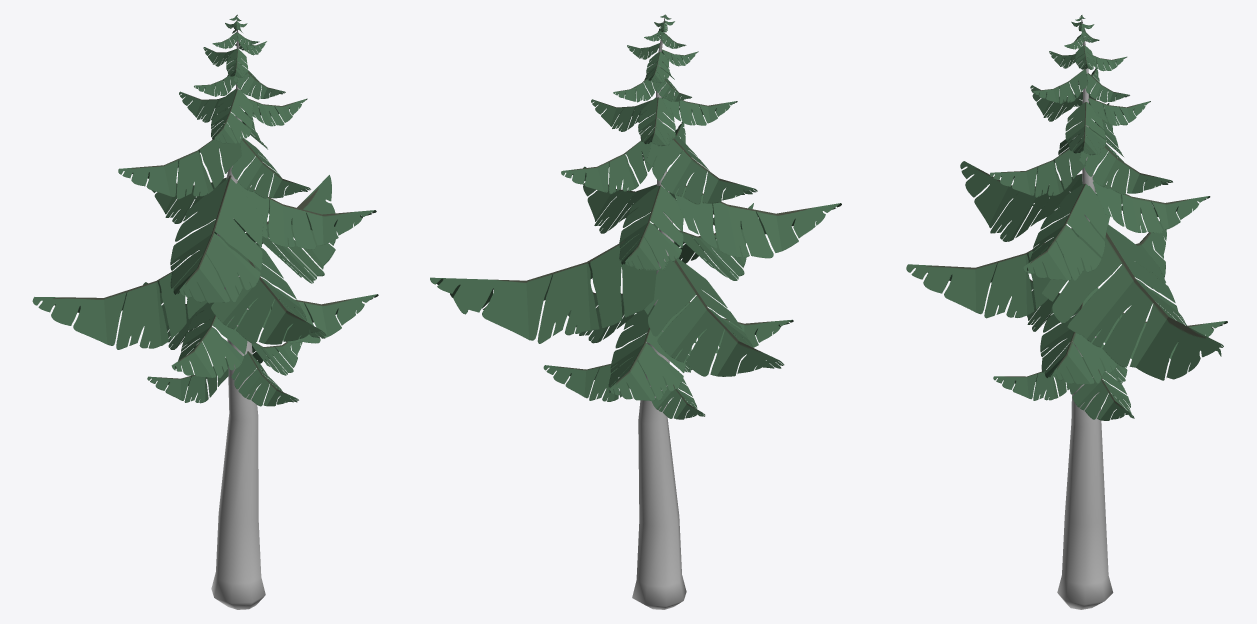
File: EverblueTree.fbx
3 renders of one model, left to right at view 1: azimuth 30°, elevation 25°; view 2: azimuth 150°, elevation 25°; view 3: azimuth 270°, elevation 25°, orthographic.
Parts seen in each view (by area): view 1: Tall_Tree_LOD0, Tall_Branches_LOD0.025, Tall_Branches_LOD0.024, Tall_Branches_LOD0.003, Tall_Branches_LOD0.006, Tall_Branches_LOD0.005, Tall_Branches_LOD0.022, Tall_Branches_LOD0.023, Tall_Branches_LOD0.008, Tall_Branches_LOD0.021, Tall_Branches_LOD0.026, Tall_Branches_LOD0.001 (+7 smaller); view 2: Tall_Branches_LOD0.023, Tall_Branches_LOD0.024, Tall_Tree_LOD0, Tall_Branches_LOD0.025, Tall_Branches_LOD0.002, Tall_Branches_LOD0.004, Tall_Branches_LOD0.006, Tall_Branches_LOD0.007, Tall_Branches_LOD0, Tall_Branches_LOD0.005, Tall_Branches_LOD0.003, Tall_Branches_LOD0.009 (+6 smaller); view 3: Tall_Branches_LOD0.023, Tall_Tree_LOD0, Tall_Branches_LOD0.003, Tall_Branches_LOD0.005, Tall_Branches_LOD0.025, Tall_Branches_LOD0.021, Tall_Branches_LOD0.004, Tall_Branches_LOD0.008, Tall_Branches_LOD0.007, Tall_Branches_LOD0, Tall_Branches_LOD0.010, Tall_Branches_LOD0.001 (+7 smaller).
Part boxes in pixels (left/top/right/bottom): Tall_Tree_LOD0: left=211, top=15, right=265, bottom=609; Tall_Branches_LOD0.025: left=170, top=175, right=263, bottom=302; Tall_Branches_LOD0.024: left=32, top=253, right=207, bottom=349; Tall_Branches_LOD0.003: left=207, top=236, right=326, bottom=344; Tall_Branches_LOD0.006: left=118, top=127, right=241, bottom=199; Tall_Branches_LOD0.005: left=236, top=182, right=376, bottom=249; Tall_Branches_LOD0.022: left=171, top=302, right=247, bottom=378; Tall_Branches_LOD0.023: left=191, top=175, right=336, bottom=283; Tall_Branches_LOD0.008: left=231, top=138, right=310, bottom=198; Tall_Branches_LOD0.021: left=248, top=294, right=378, bottom=343; Tall_Branches_LOD0.026: left=211, top=89, right=253, bottom=143; Tall_Branches_LOD0.001: left=231, top=351, right=298, bottom=406; Tall_Branches_LOD0.023: left=430, top=224, right=657, bottom=343; Tall_Branches_LOD0.024: left=644, top=255, right=784, bottom=376; Tall_Tree_LOD0: left=632, top=14, right=686, bottom=609; Tall_Branches_LOD0.025: left=674, top=185, right=841, bottom=258; Tall_Branches_LOD0.002: left=608, top=305, right=685, bottom=400; Tall_Branches_LOD0.004: left=619, top=185, right=683, bottom=270; Tall_Branches_LOD0.006: left=646, top=130, right=757, bottom=204; Tall_Branches_LOD0.007: left=561, top=134, right=656, bottom=194; Tall_Branches_LOD0: left=543, top=356, right=644, bottom=401; Tall_Branches_LOD0.005: left=583, top=166, right=676, bottom=233; Tall_Branches_LOD0.003: left=674, top=203, right=753, bottom=280; Tall_Branches_LOD0.009: left=638, top=97, right=675, bottom=146; Tall_Branches_LOD0.023: left=1042, top=221, right=1223, bottom=380; Tall_Tree_LOD0: left=1057, top=15, right=1113, bottom=609; Tall_Branches_LOD0.003: left=906, top=228, right=1078, bottom=318; Tall_Branches_LOD0.005: left=1023, top=183, right=1109, bottom=280; Tall_Branches_LOD0.025: left=960, top=161, right=1096, bottom=241; Tall_Branches_LOD0.021: left=1040, top=287, right=1119, bottom=384; Tall_Branches_LOD0.004: left=1093, top=181, right=1210, bottom=233; Tall_Branches_LOD0.008: left=990, top=143, right=1086, bottom=197; Tall_Branches_LOD0.007: left=1079, top=138, right=1172, bottom=194; Tall_Branches_LOD0: left=1069, top=357, right=1134, bottom=420; Tall_Branches_LOD0.010: left=1065, top=102, right=1105, bottom=155; Tall_Branches_LOD0.001: left=993, top=366, right=1073, bottom=400.
Size of what is drawn, in the model's own units: 1692 by 2769 by 1516.
